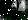person: (19, 1, 26, 12), (11, 1, 17, 10)
